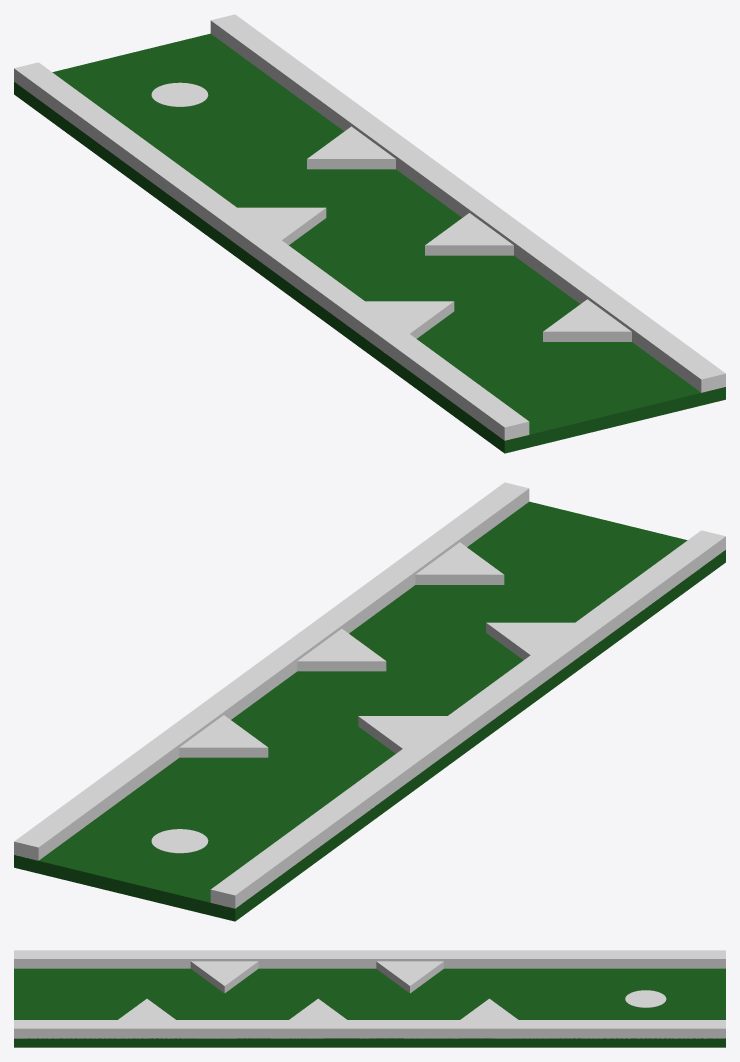
Rendered from Golfcourse.glb.
3 views of the same model, one above another, from view 1: azimuth 30°, elevation 25°; view 2: azimuth 150°, elevation 25°; view 3: azimuth 270°, elevation 25° (orthographic). The views are drawn at different scales.
Visible parts, largest first — view 1: Cube, Cube.001, Cylinder.001, Cylinder, Hål; view 2: Cube, Cube.001, Cylinder.001, Cylinder, Hål; view 3: Cube, Cube.001, Cylinder, Cylinder.001, Hål.
Boxes of the visible parts, box(x1,y1,x2,y2) form: Cube: box(14, 33, 725, 453); Cube.001: box(14, 14, 725, 440); Cylinder.001: box(307, 126, 631, 341); Cylinder: box(237, 207, 454, 338); Hål: box(151, 82, 208, 106); Cube: box(14, 501, 725, 921); Cube.001: box(14, 482, 725, 908); Cylinder.001: box(179, 542, 504, 757); Cylinder: box(358, 622, 574, 753); Hål: box(151, 829, 208, 853); Cube: box(14, 968, 725, 1047); Cube.001: box(14, 950, 725, 1038); Cylinder: box(190, 961, 443, 993); Cylinder.001: box(118, 998, 518, 1019); Hål: box(625, 990, 666, 1007).
Size of the model in its own units: 6.94 by 0.9443 by 26.67.
